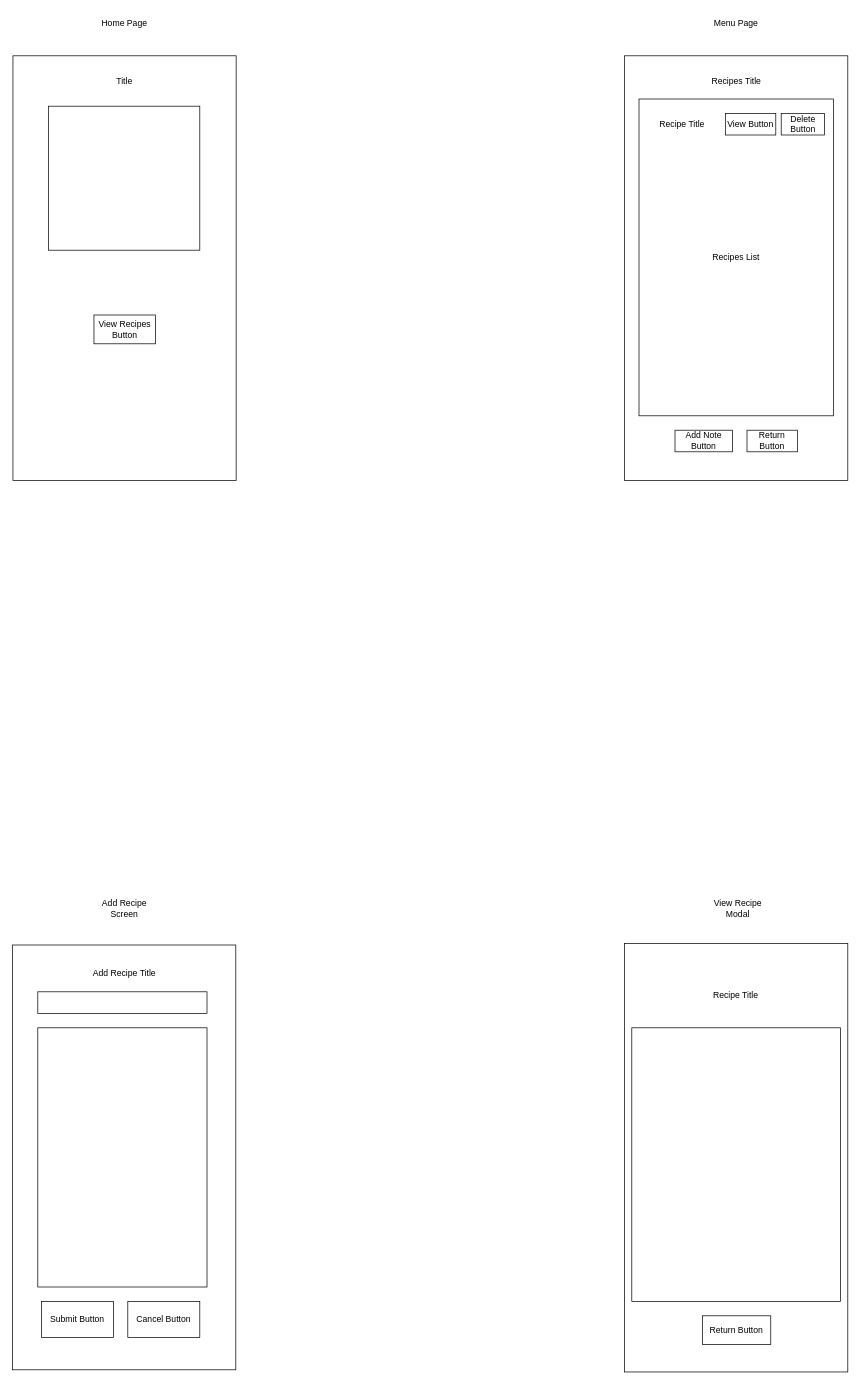
This 860x1385 diagram has some shape labels left out. The centre of each missing label's shape, as x and y in pixels:
Image: the point at 124,177
Recipe Text: the point at 736,1164
Recipe Text Input: the point at 122,1157
Recipe Title Input: the point at 122,1002
